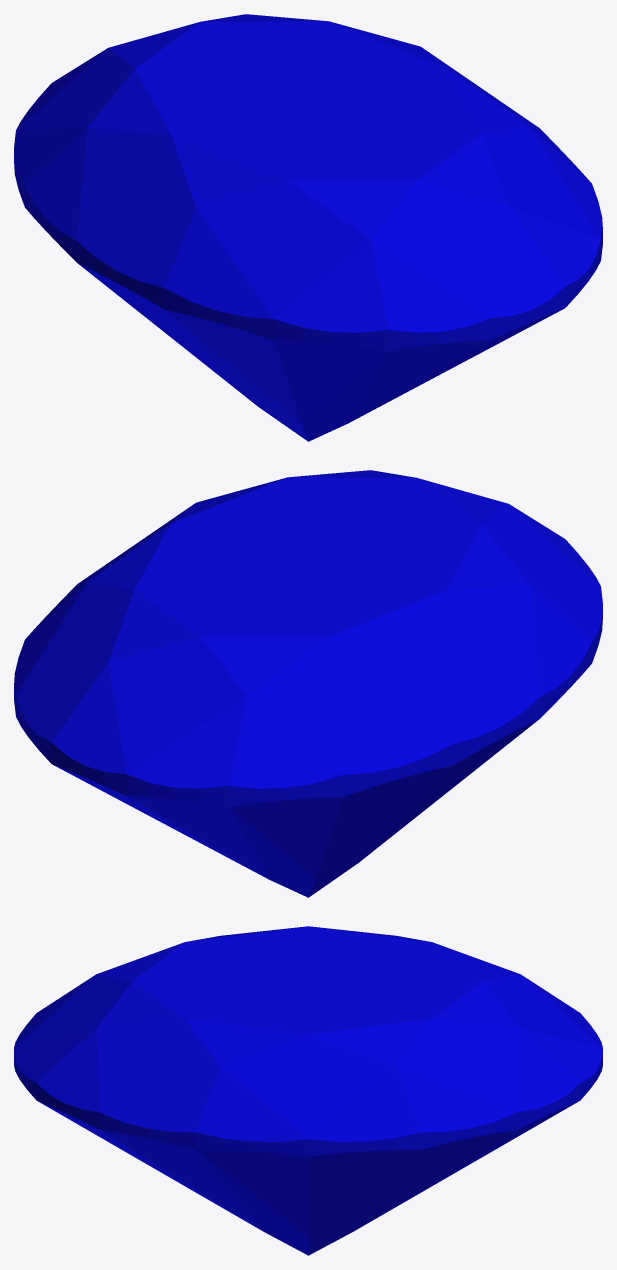
Rendered from Head_Hidden Halo_Oval_1.5ct_Diamond.glb.
3 renders of one model, top to bottom at view 1: azimuth 30°, elevation 25°; view 2: azimuth 150°, elevation 25°; view 3: azimuth 270°, elevation 25°, orthographic. The views are drawn at different scales.
Size of the model in its own units: 0.00655 by 0.00461 by 0.00893.
